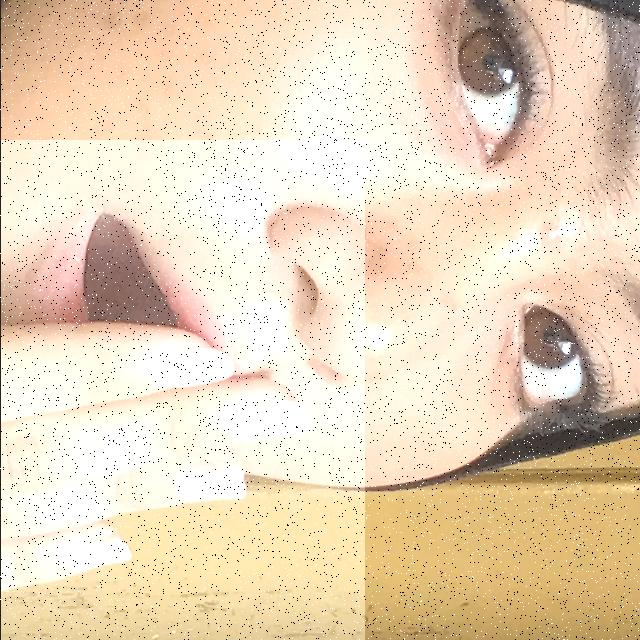ngantuk: (0, 140, 364, 640)
